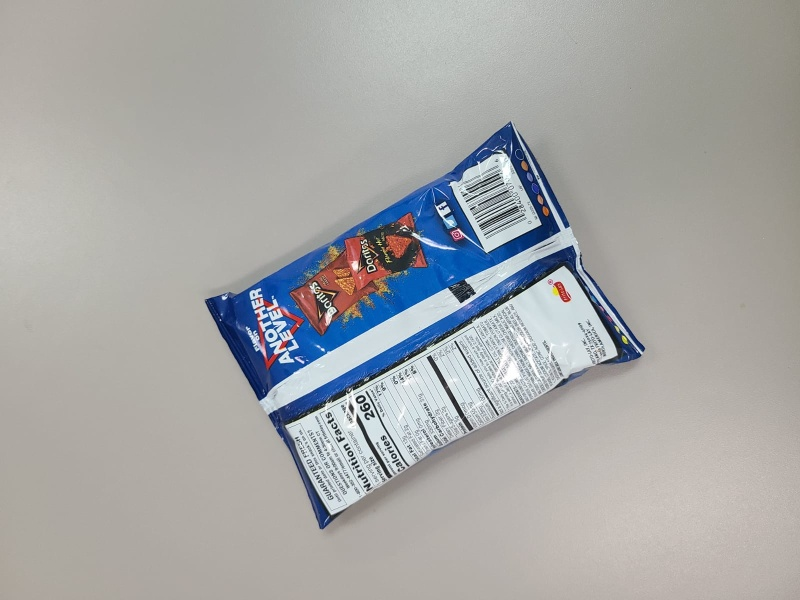doritos: (204, 119, 651, 532)
